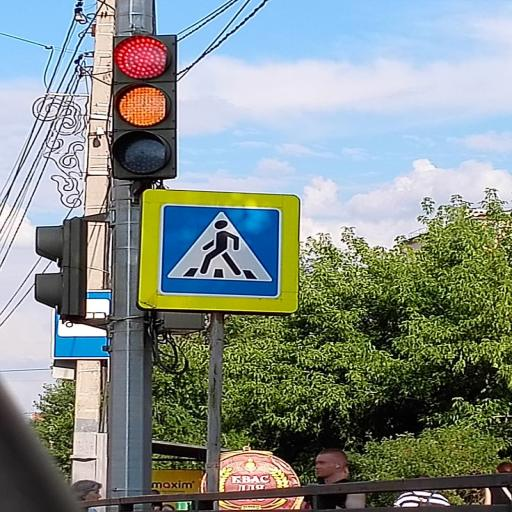elevator: (107, 0, 154, 497)
pole: (112, 34, 177, 181), (34, 217, 88, 320)
